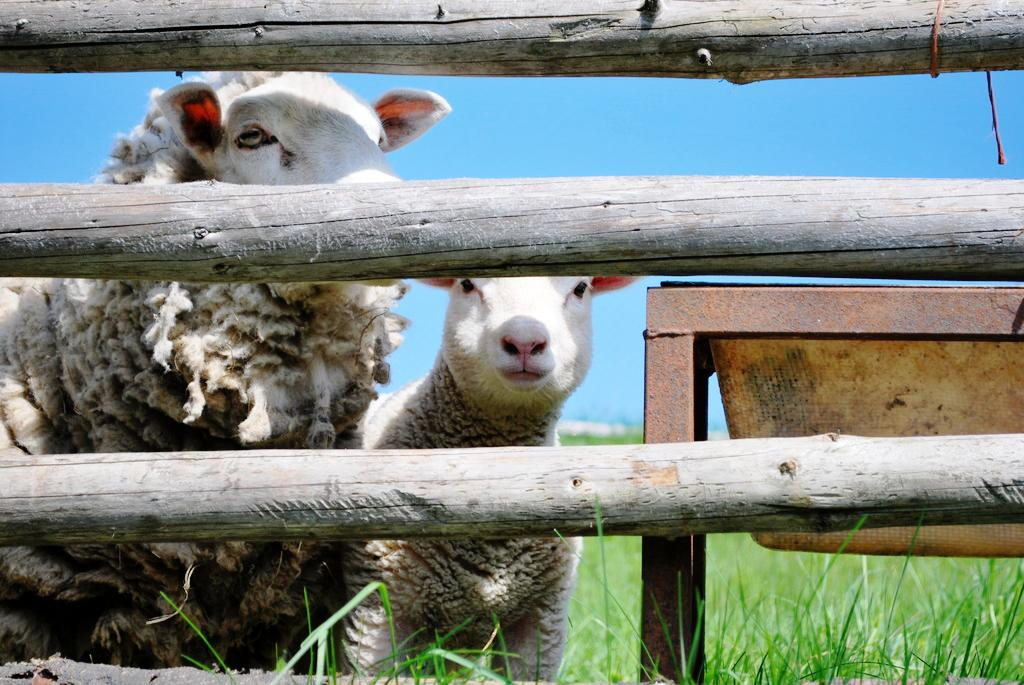Sheep: (0, 72, 455, 664), (342, 269, 649, 684)
